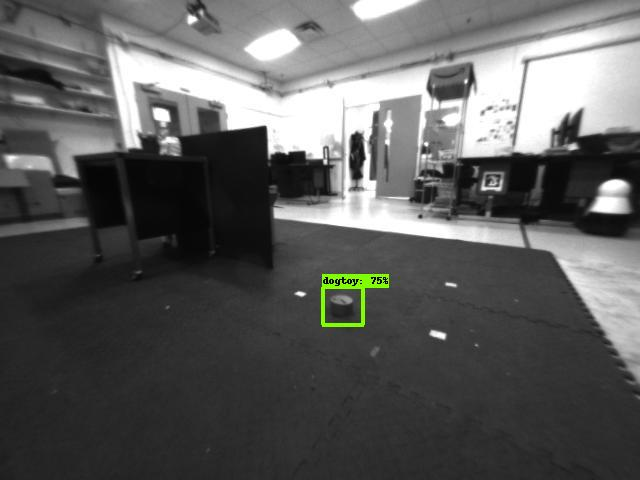dogtoy: (319, 283, 359, 325)
